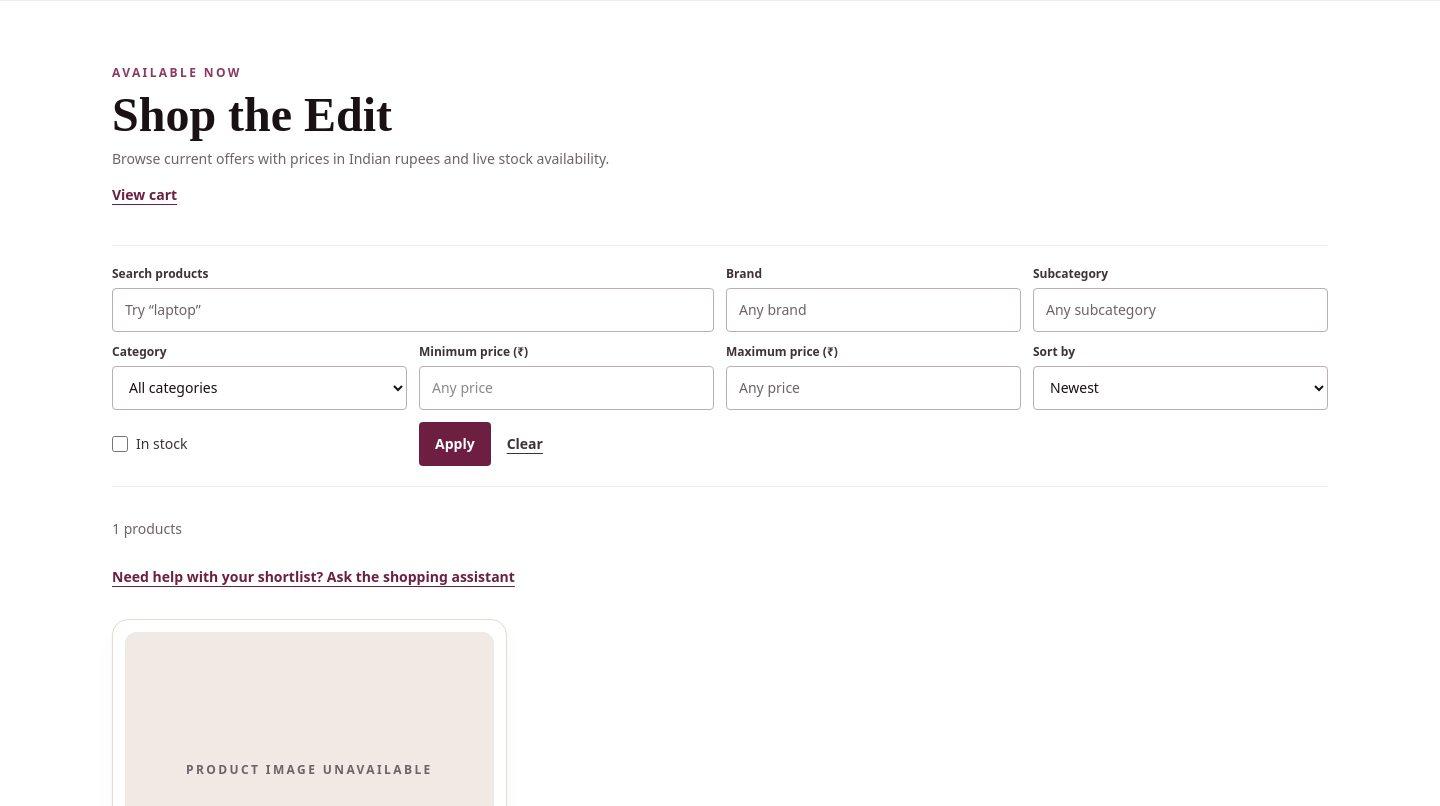
Test: ProductCatalog › rejects reversed price ranges before requesting products
This screenshot has width=1440, height=806.
Type "2000" into the number field labelled "Minimum price (₹)" at (566,388), box [419,366,714,410]
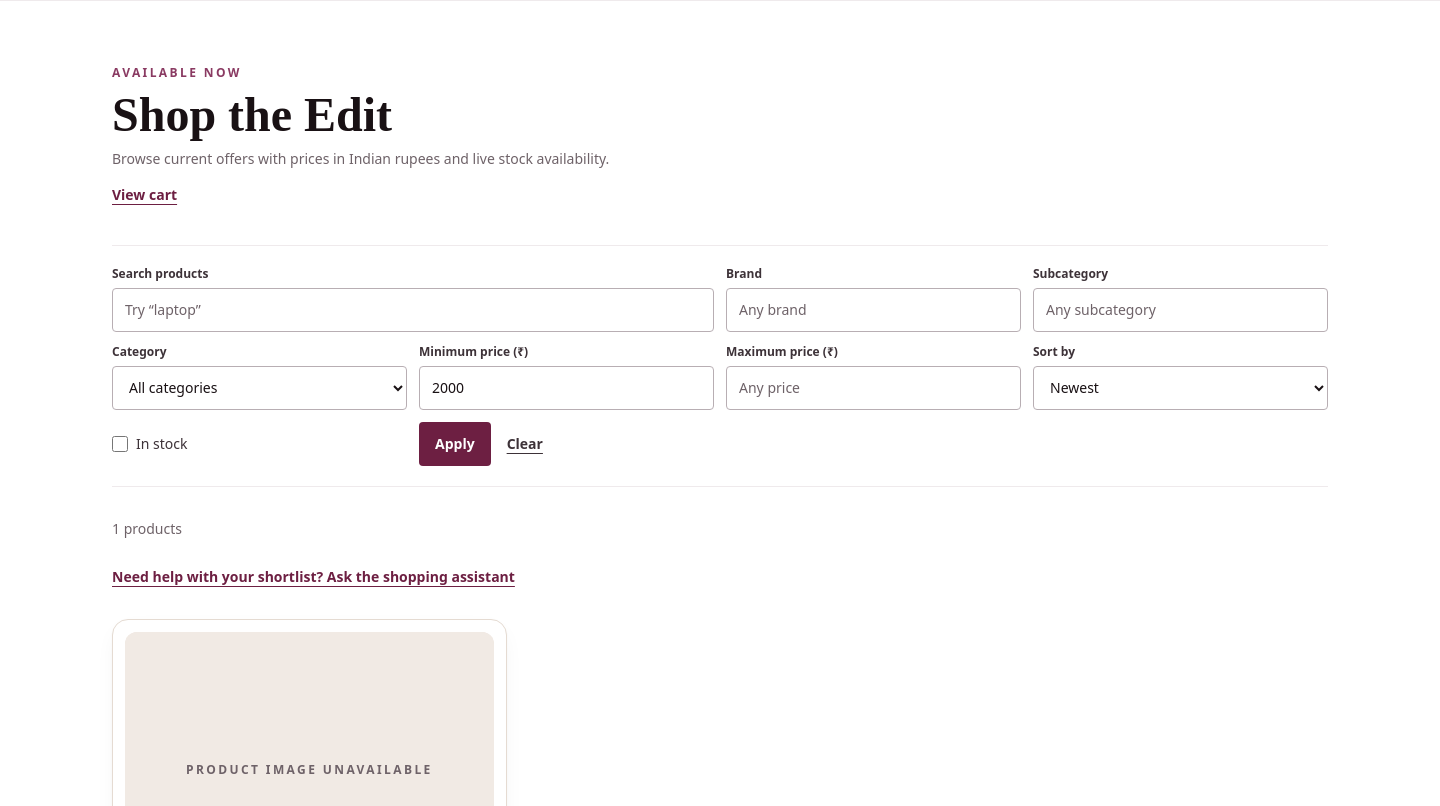
Type "1000" into the number field labelled "Maximum price (₹)" at (874,388), box [726,366,1021,410]
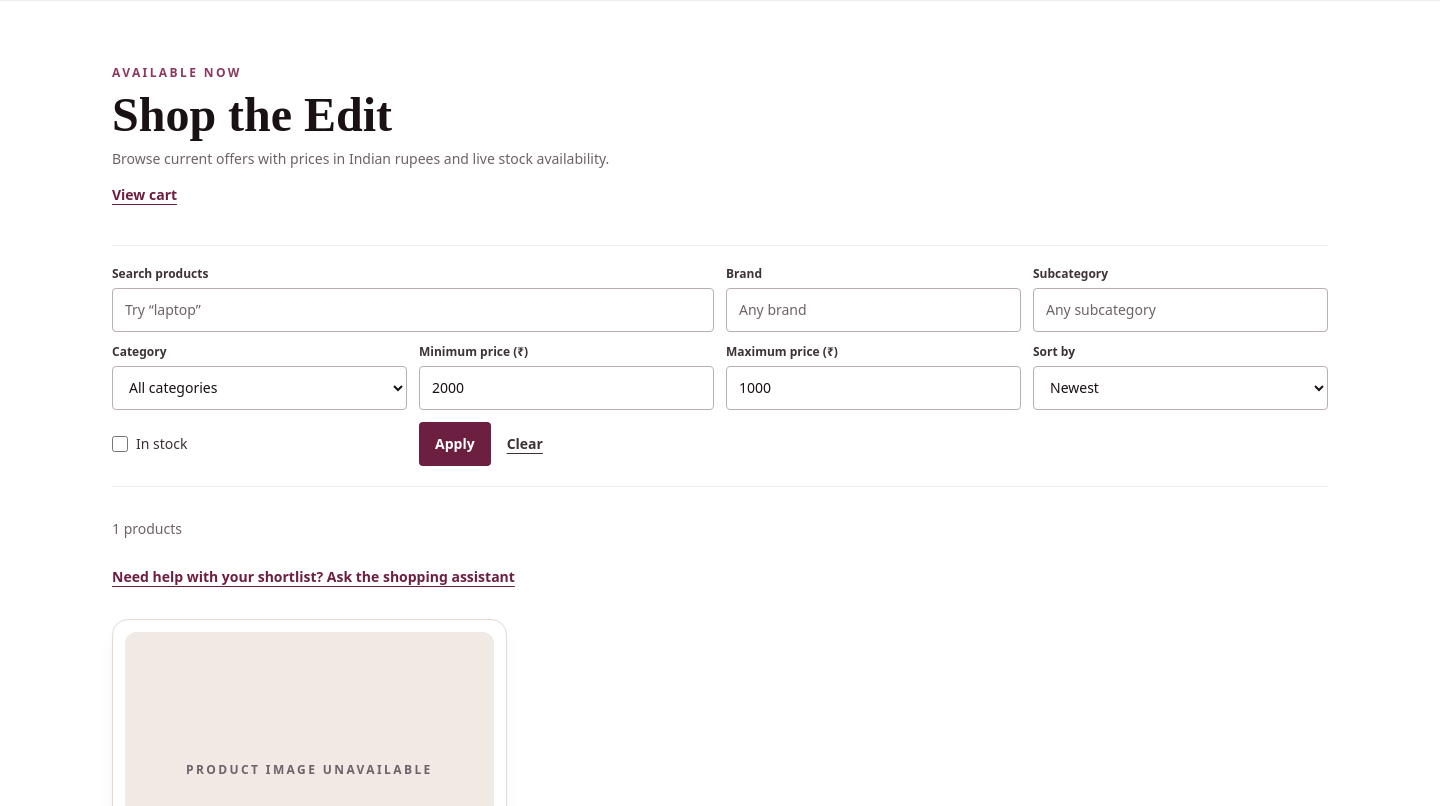
Click the button "Apply" at (455,444), box [419,422,491,466]
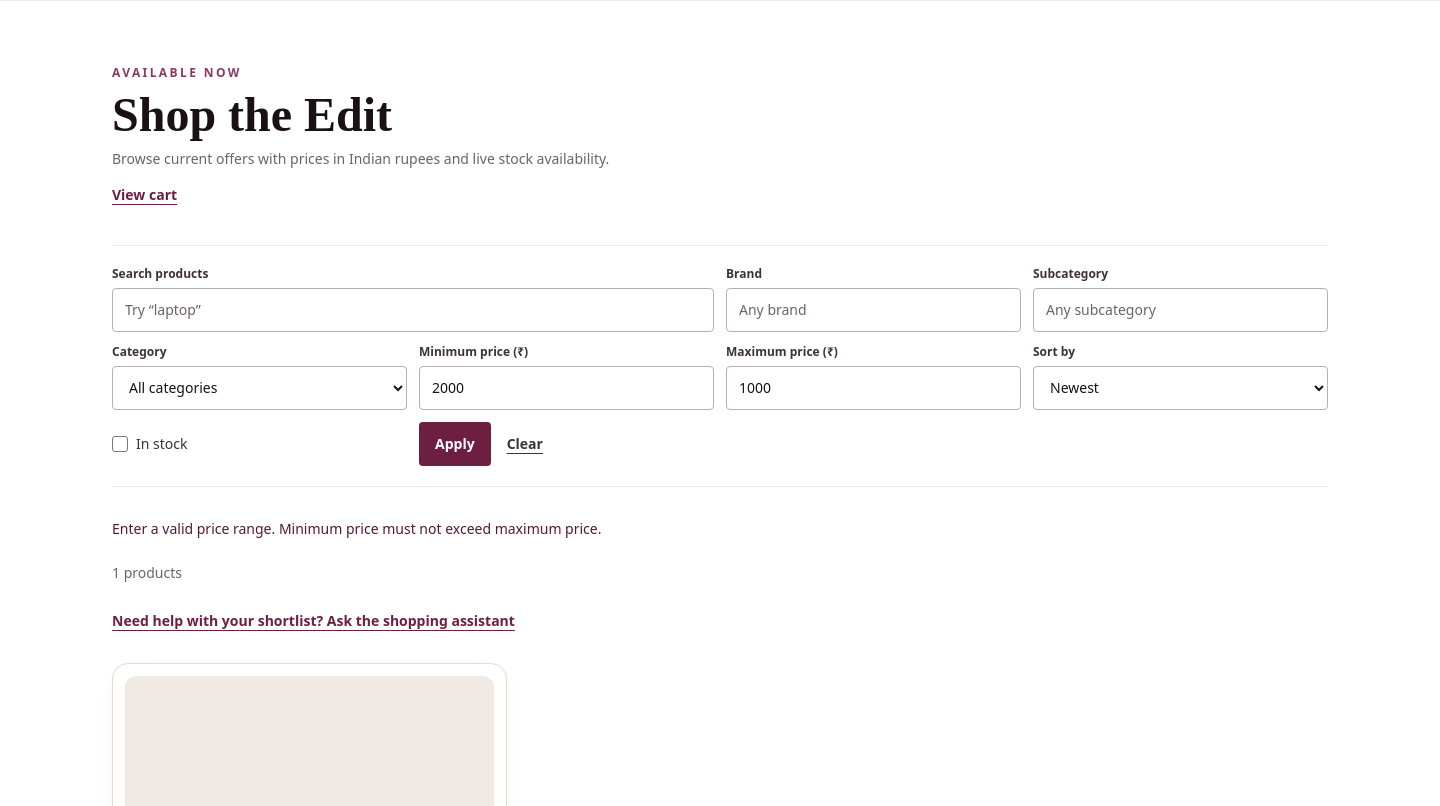
expect the message shows "Enter a valid price range": met, box [112,519,602,538]
